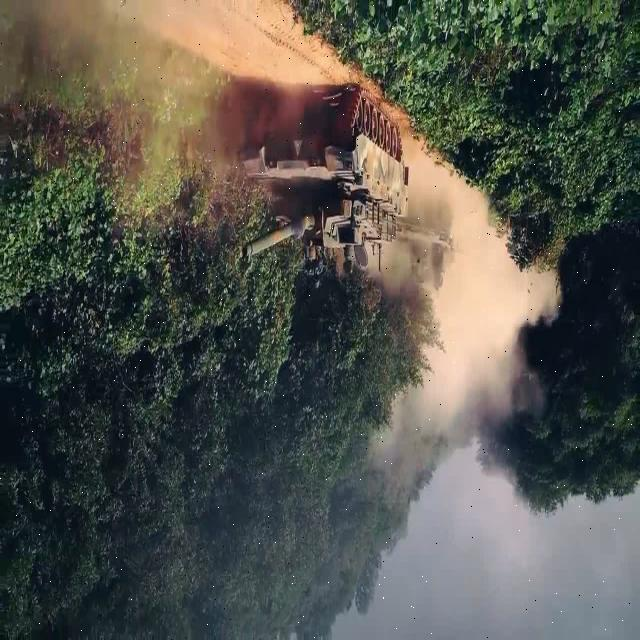korea tank: (235, 85, 410, 262)
